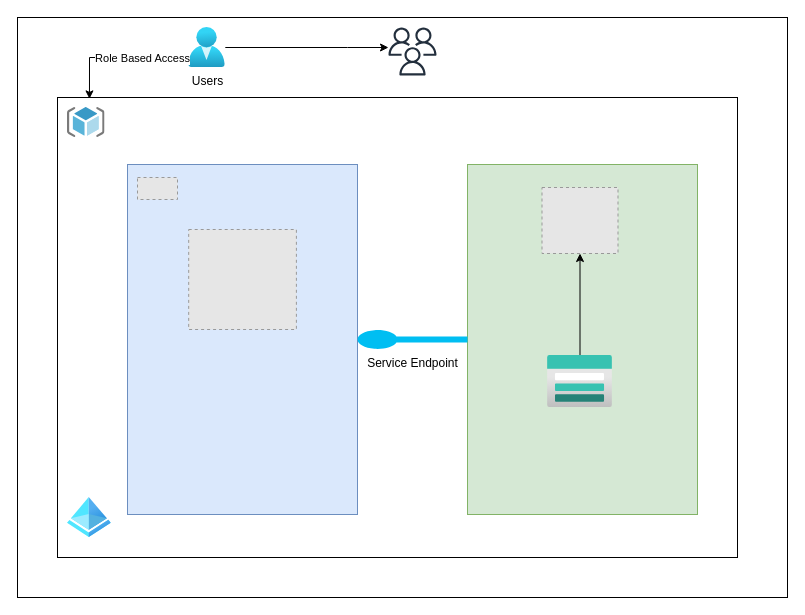
The diagram is 805 pixels wide and 615 high, and some of its shapes have lost their labels. Grey dashed boxes stand in for pictures. The box of each missing label's shape, as (x1, y1, x2, y2) in pixels:
Entra ID: (67, 497, 111, 537)
Operations Group: (388, 27, 436, 75)
